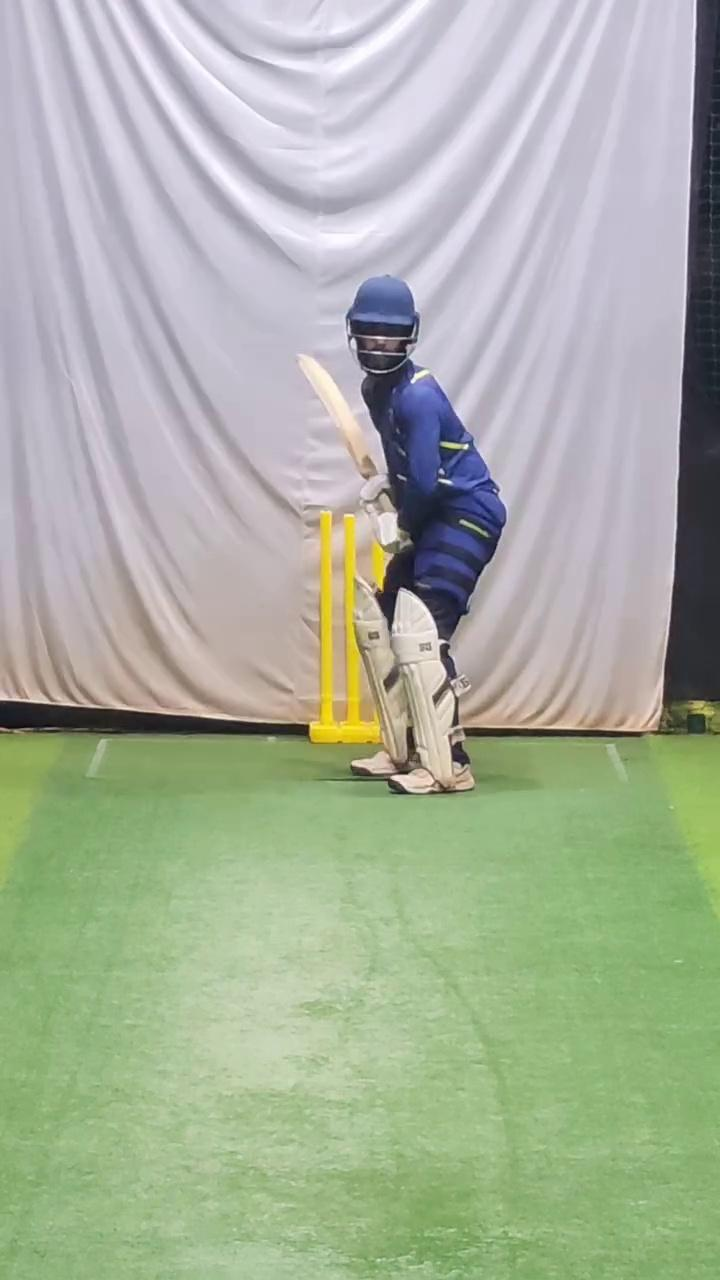bat: (291, 341, 382, 489)
